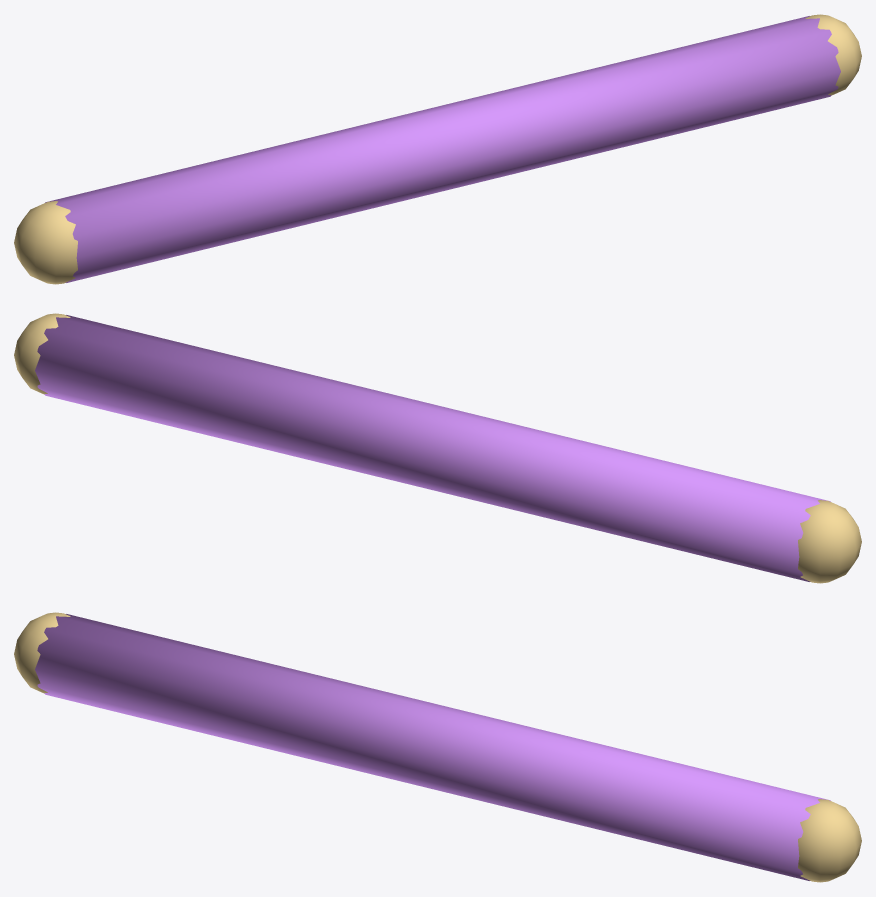
The model's file is pin-Db4HLUtP.glb.
3 views of the same model, one above another, from view 1: azimuth 30°, elevation 25°; view 2: azimuth 150°, elevation 25°; view 3: azimuth 330°, elevation 25° (orthographic).
Visible parts, largest first — view 1: R3D_pin_Body_0, R3D_pin_Tip_0, R3D_pin_Tip_1; view 2: R3D_pin_Body_0, R3D_pin_Tip_0, R3D_pin_Tip_1; view 3: R3D_pin_Body_0, R3D_pin_Tip_1, R3D_pin_Tip_0.
Part boxes in pixels (x1,y1,x2,y2): R3D_pin_Body_0: (45,16,840,282); R3D_pin_Tip_0: (14,201,77,284); R3D_pin_Tip_1: (805,14,861,95); R3D_pin_Body_0: (35,315,830,581); R3D_pin_Tip_0: (798,500,861,583); R3D_pin_Tip_1: (14,313,70,394); R3D_pin_Body_0: (35,614,830,880); R3D_pin_Tip_1: (798,799,861,882); R3D_pin_Tip_0: (14,612,70,693).
Size of the model in its own units: 2.08 by 0.18 by 0.18.
